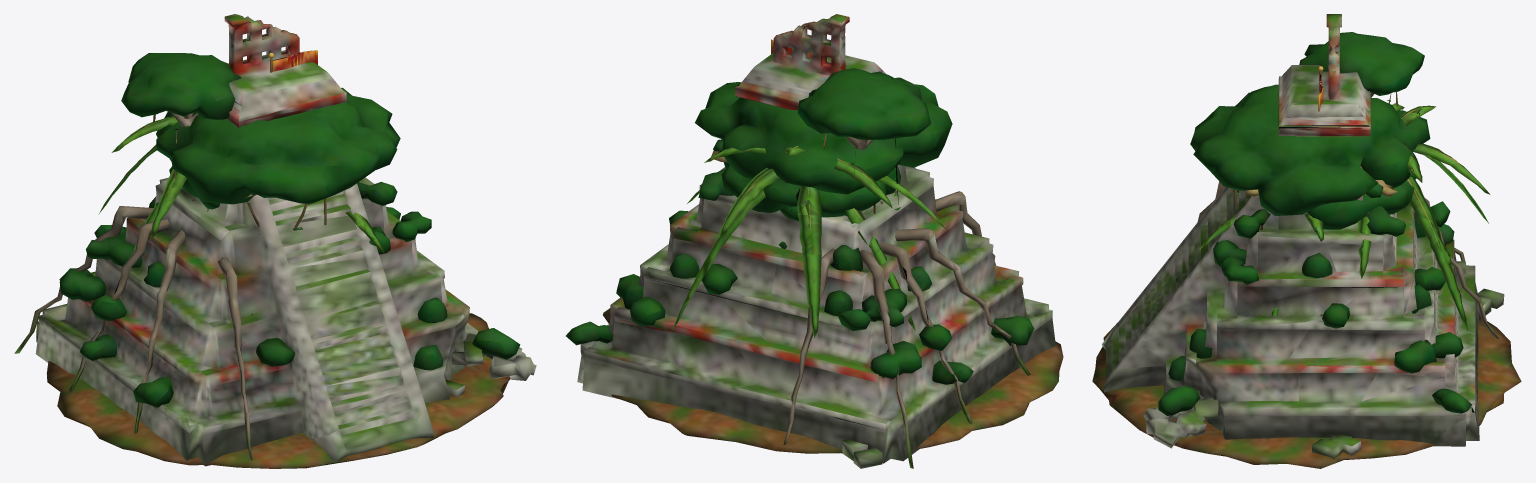
The model's file is gunpowder_decor_jungle.glb.
3 views of the same model, side by side, from view 1: azimuth 30°, elevation 25°; view 2: azimuth 150°, elevation 25°; view 3: azimuth 270°, elevation 25° (orthographic). The views are drawn at different scales.
Visible parts, largest first — view 1: Pyramid, Tree_A, Palm_A, Watchtower; view 2: Pyramid, Tree_A, Palm_A, Tree_B; view 3: Pyramid, Tree_A, Palm_A, Tree_B, Palm_B, Watchtower.
Part boxes in pixels (box(x1,y1,x2,y2)): Pyramid: box(14, 14, 536, 468); Tree_A: box(156, 87, 400, 234); Palm_A: box(98, 116, 186, 268); Watchtower: box(244, 50, 317, 198); Pyramid: box(566, 14, 1063, 468); Tree_A: box(695, 74, 952, 213); Palm_A: box(671, 146, 946, 338); Tree_B: box(721, 162, 900, 217); Pyramid: box(1092, 14, 1521, 468); Tree_A: box(1190, 84, 1430, 215); Palm_A: box(1358, 103, 1490, 331); Tree_B: box(1307, 159, 1420, 229); Palm_B: box(1199, 213, 1323, 315); Watchtower: box(1245, 66, 1397, 197).
Bounding box in the file's own units: 5.82 × 4.79 × 5.41.
1 material, 1 textured.
